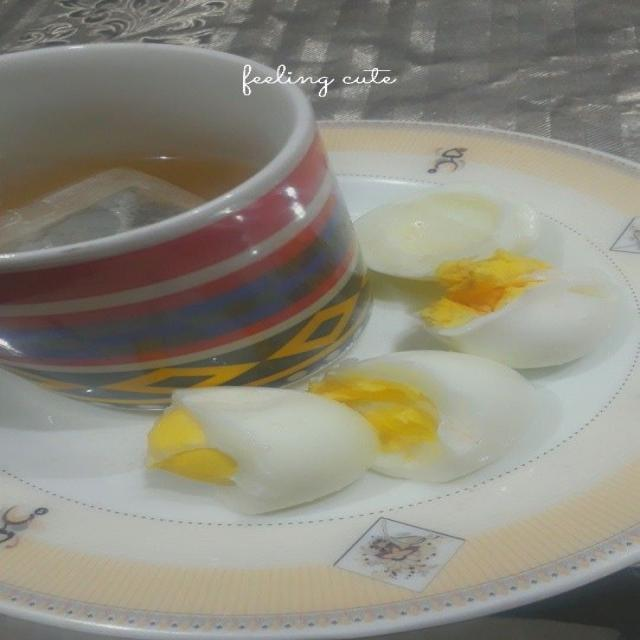eggs: (409, 195, 602, 372), (310, 331, 504, 480), (145, 396, 332, 485)
